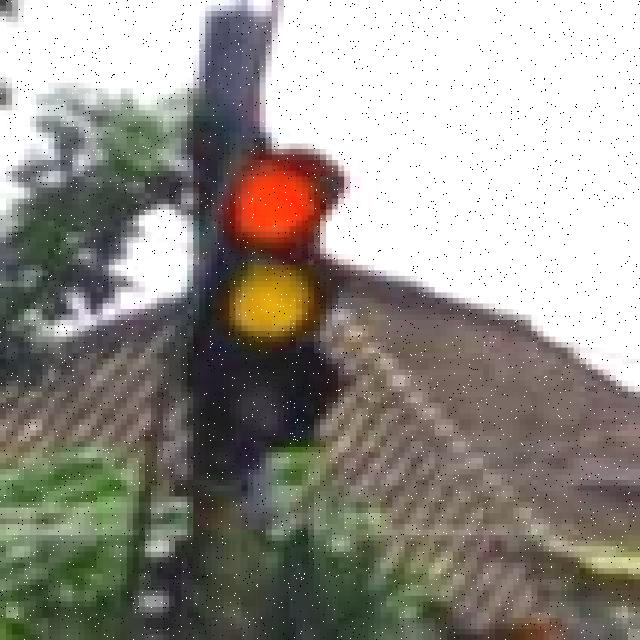Zolte swiatlo: (193, 143, 338, 447)
